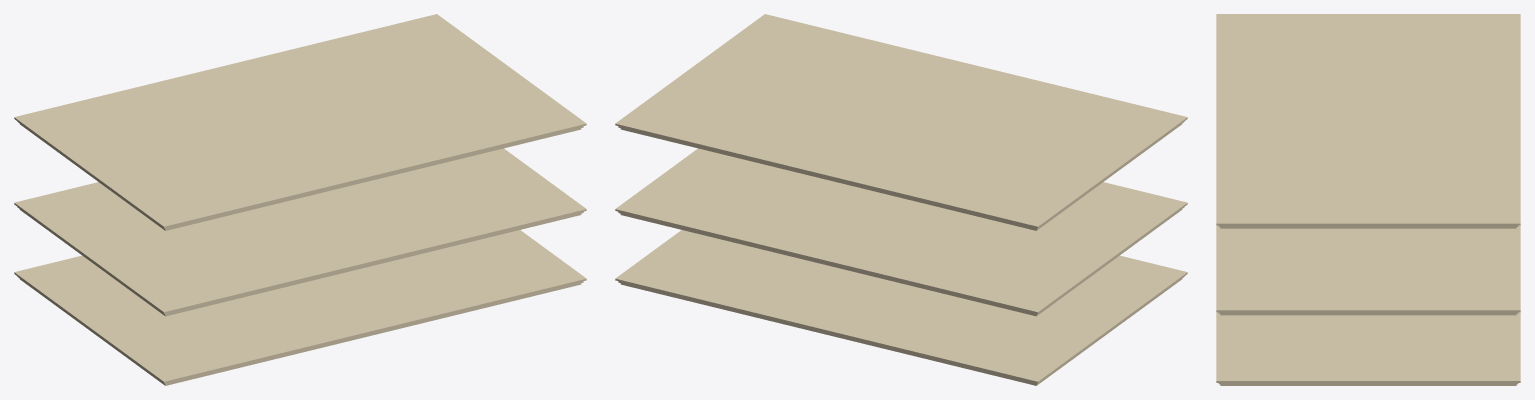
The model's file is KOL_T1_TOWN_HALL__02_Cornices.fbx.
3 renders of one model, left to right at view 1: azimuth 30°, elevation 25°; view 2: azimuth 150°, elevation 25°; view 3: azimuth 270°, elevation 25°, orthographic.
Parts seen in each view (by area): view 1: KOL_T1_TOWN_HALL__02_Cornices__KOL_T1_HeritageCream; view 2: KOL_T1_TOWN_HALL__02_Cornices__KOL_T1_HeritageCream; view 3: KOL_T1_TOWN_HALL__02_Cornices__KOL_T1_HeritageCream.
Part boxes in pixels (bbox=[...]): KOL_T1_TOWN_HALL__02_Cornices__KOL_T1_HeritageCream: bbox=[14, 14, 586, 385]; KOL_T1_TOWN_HALL__02_Cornices__KOL_T1_HeritageCream: bbox=[615, 14, 1187, 385]; KOL_T1_TOWN_HALL__02_Cornices__KOL_T1_HeritageCream: bbox=[1216, 14, 1520, 385].
Bounding box in the file's own units: 114 × 41.58 × 69.9.
